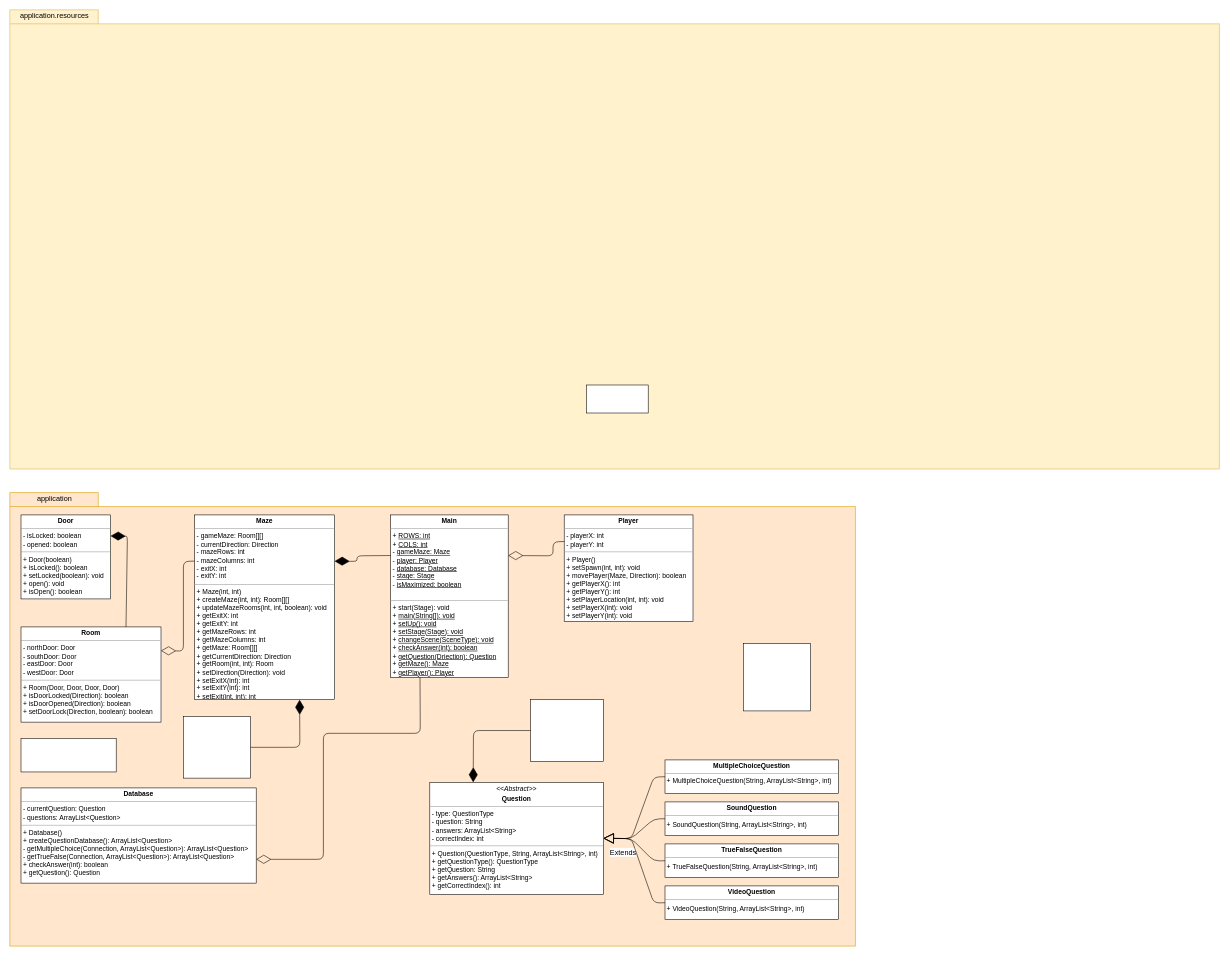
This 1229x956 diagram has some shape labels left out. Here are the shapes that lost their labels. From the top down, the centre of each, then its label:
(617,398): Main.fxml
(777,677): <<Enumeration>> SceneType MAP CUSTOMIZE SETTINGS HELP WIN
(217,747): <<Enumeration>> Direction NORTH SOUTH EAST WEST
(566,730): <<Enumeration>> QuestionType MULTIPLE_CHOICE TRUE_FALSE SOUND VIDEO
(68,755): JavaDatabaseConnection + dbConnector(): Connection
